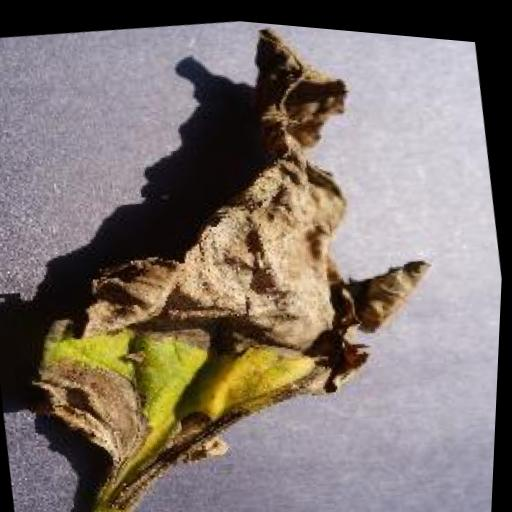Late Blight: (0, 0, 473, 512)
